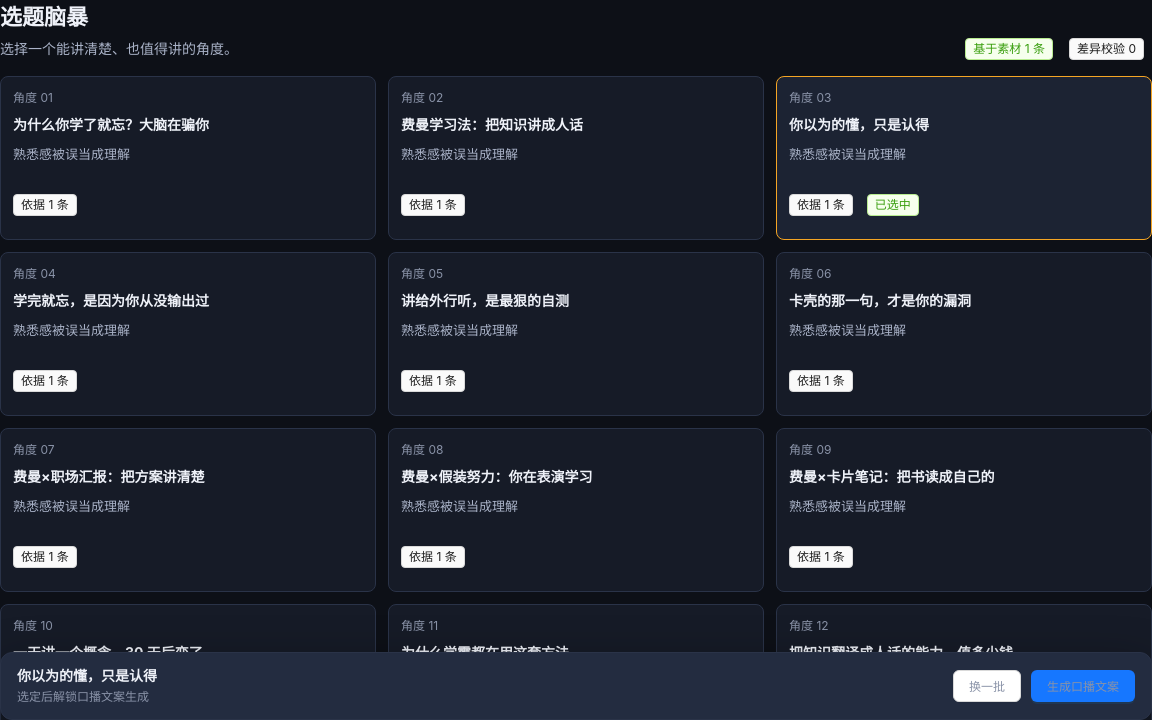
Test case: T-27 选题页 › 读取选题批次，选择角度后进入文案页
Check: the text "为什么你学了就忘？大脑在骗你" is shown, box [13, 116, 209, 133]
Check: the text "基于素材 1 条" is shown, box [965, 38, 1053, 60]
Click the button "角度 01 为什么你学了就忘？大脑在骗你 熟悉感被误当成理解 依据 1 条" at (111, 125), box [0, 76, 376, 240]
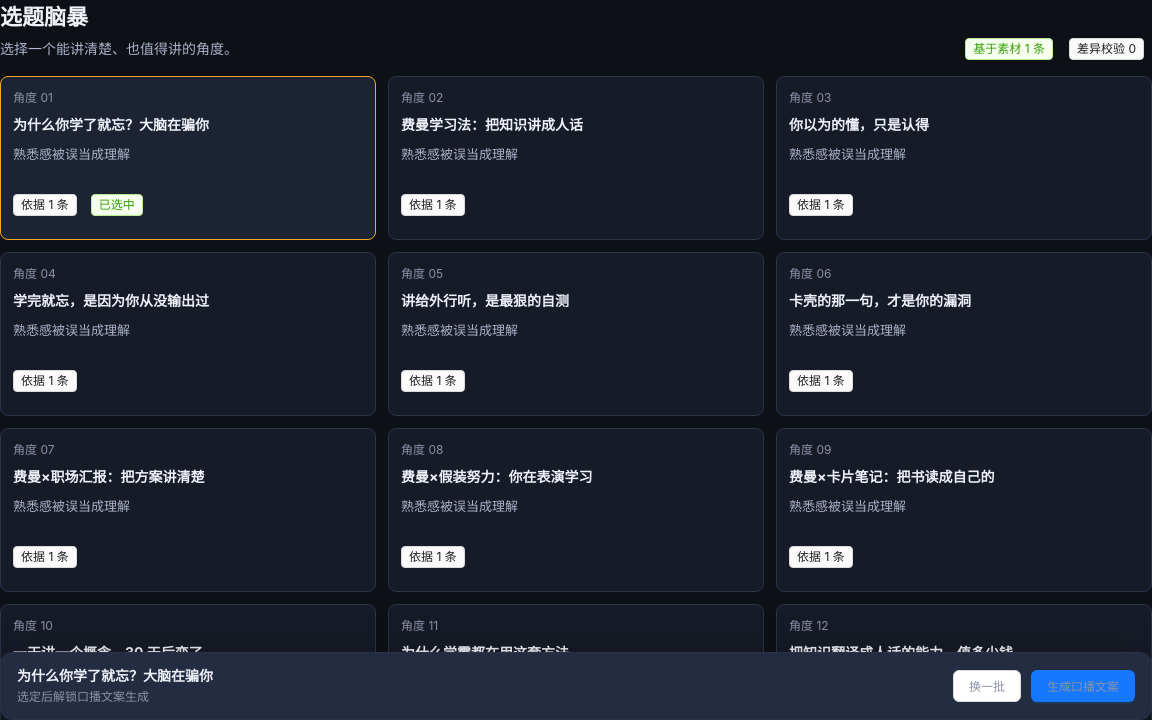
Click the button "生成口播文案" at (1083, 686), box [1031, 670, 1135, 702]
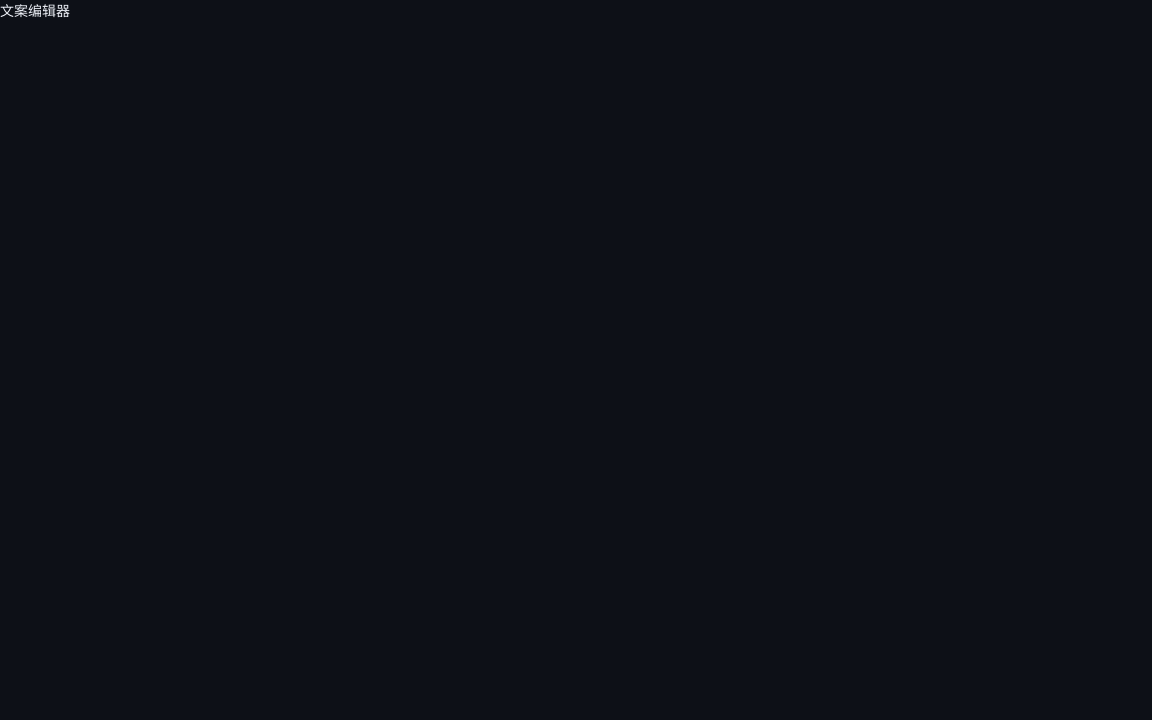
Check: the text "文案编辑器" is shown, box [0, 2, 70, 19]
